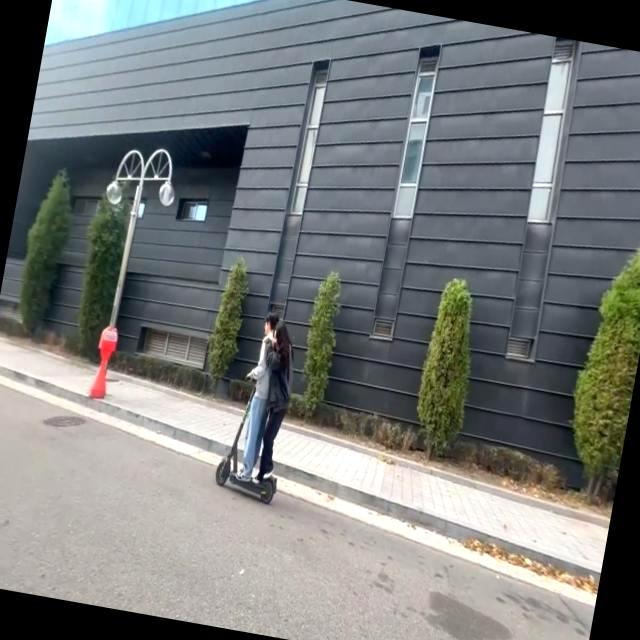bare_head: (259, 311, 278, 338), (273, 320, 288, 349)
human: (242, 314, 278, 478), (265, 317, 289, 486)
kickboard: (207, 452, 280, 505)
